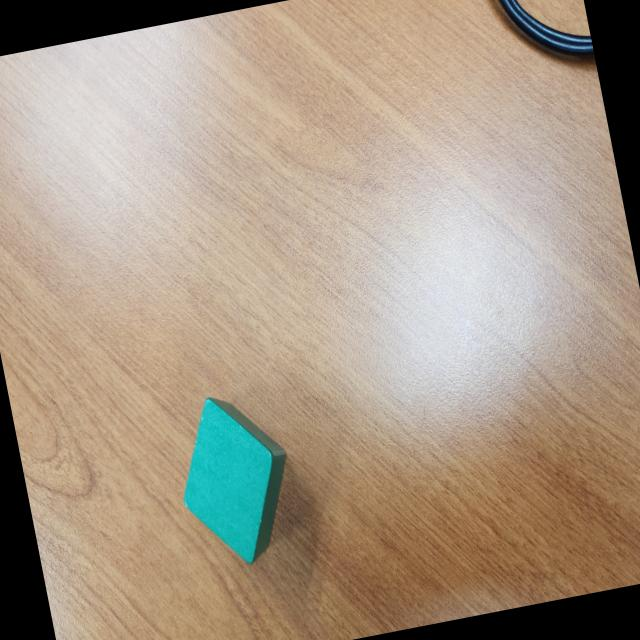green: (166, 384, 306, 574)
